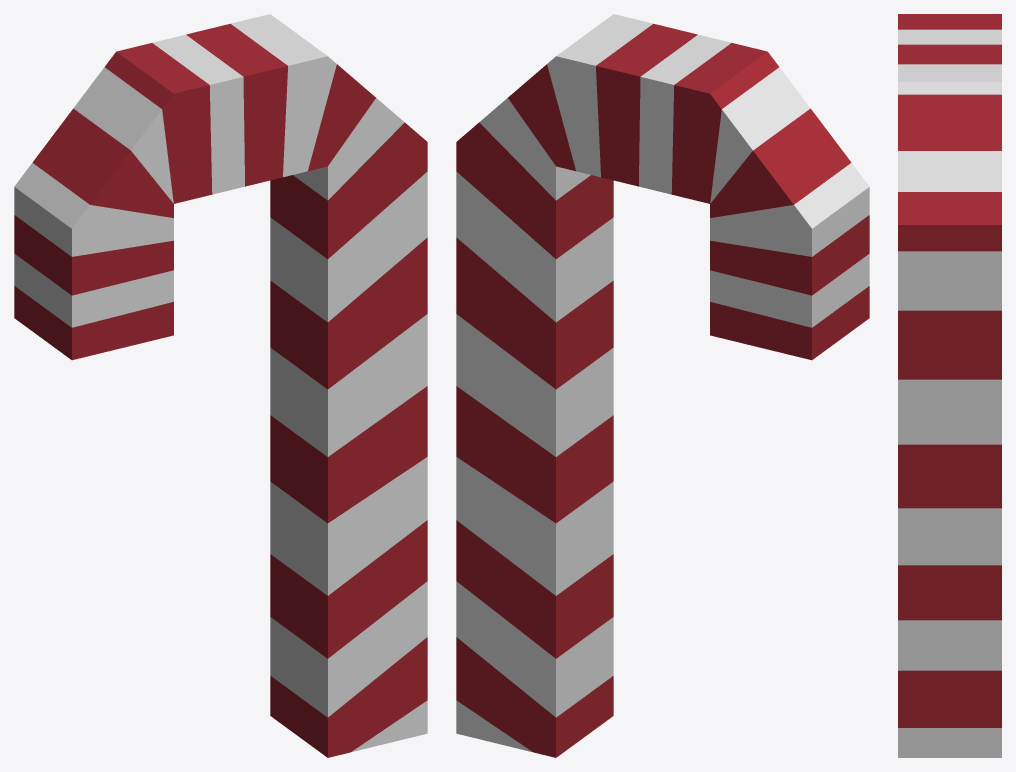
The model's file is item_candy.fbx.
3 views of the same model, side by side, from view 1: azimuth 30°, elevation 25°; view 2: azimuth 150°, elevation 25°; view 3: azimuth 270°, elevation 25° (orthographic). The views are drawn at different scales.
Visible parts, largest first — view 1: item_candy; view 2: item_candy; view 3: item_candy.
Part boxes in pixels (left/top/right/bottom): item_candy: left=14, top=14, right=427, bottom=757; item_candy: left=456, top=14, right=869, bottom=757; item_candy: left=898, top=14, right=1001, bottom=757.
Size of the model in its own units: 356 by 672 by 100.
